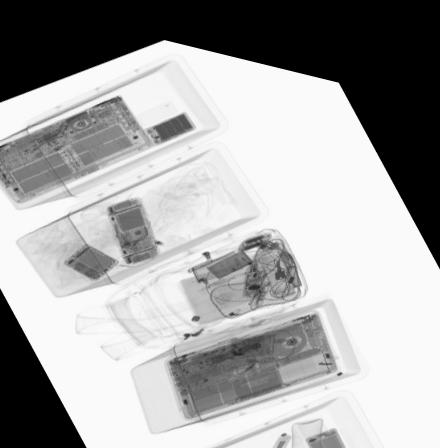Powerbank: (145, 102, 198, 140)
